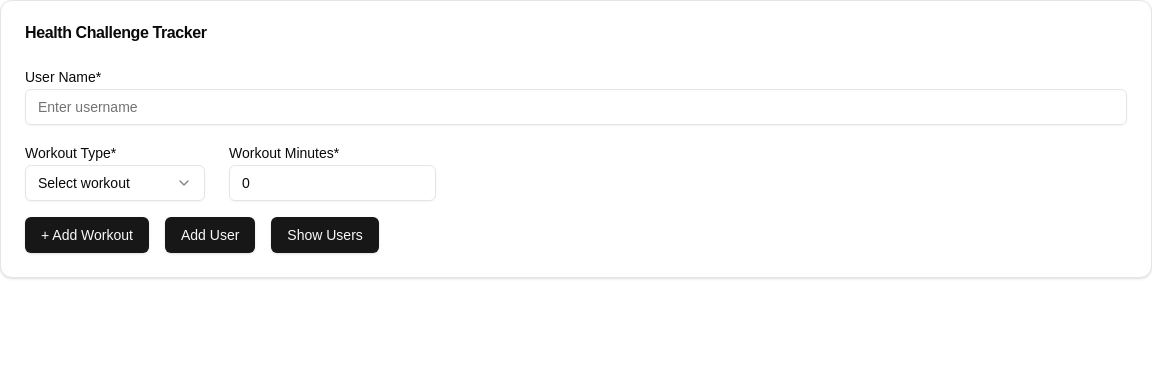
Test: Health Challenge Tracker › adds a new workout
Step 1. Click the button "+ Add Workout" → [87, 235], box x1=25 y1=217 x2=149 y2=253
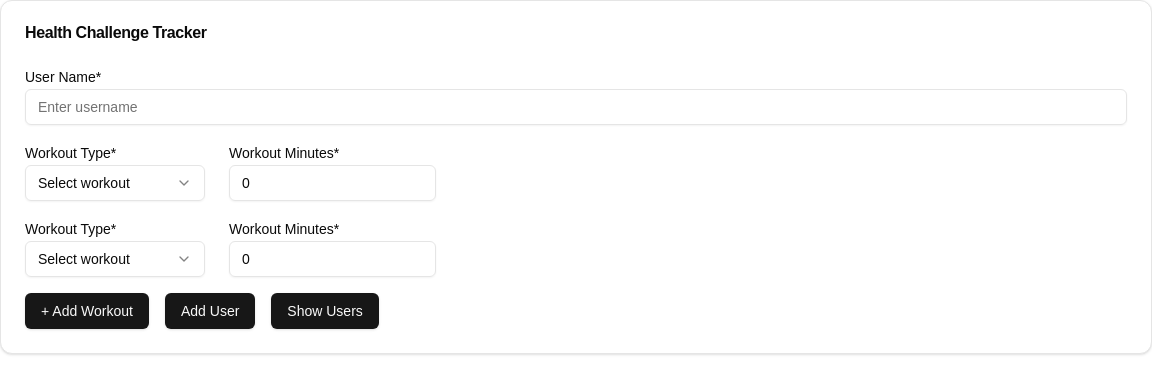
expect the text "Select workout" is shown 2 times: met, box x1=38 y1=173 x2=130 y2=193; x1=38 y1=249 x2=130 y2=269
